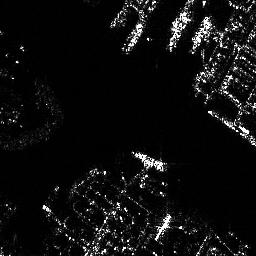ship: (190, 15, 213, 55), (130, 151, 168, 172), (168, 13, 186, 54), (125, 25, 142, 55)
